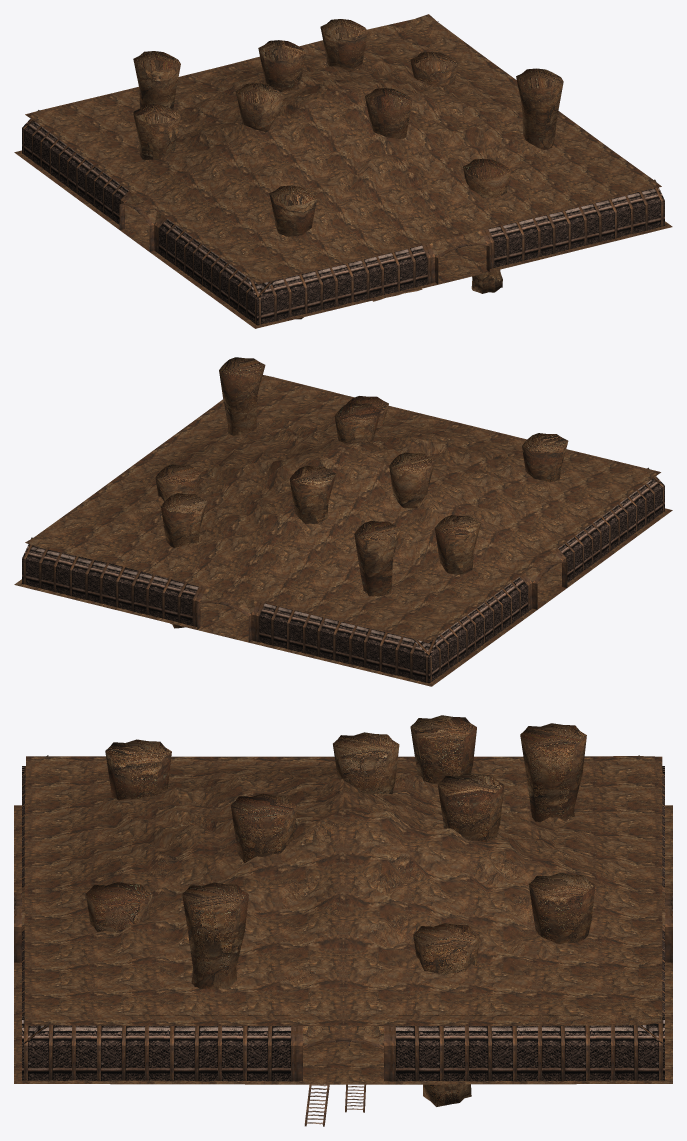
File: lvl1.gltf
3 renders of one model, top to bottom at view 1: azimuth 30°, elevation 25°; view 2: azimuth 150°, elevation 25°; view 3: azimuth 270°, elevation 25°, orthographic. The views are drawn at different scales.
Parts seen in each view (by area): view 1: ceiling-col, pillar-col, walls.002-col, walls-col.002, ground; view 2: ceiling-col, pillar-col, walls-col, walls-col.002, ground; view 3: ceiling-col, pillar-col, walls.001-col, ground, walls.002-col, walls-col.
Boxes of the visible parts, left/top/right/bottom form: ceiling-col: left=25, top=14, right=661, bottom=284; pillar-col: left=133, top=19, right=563, bottom=319; walls.002-col: left=248, top=179, right=664, bottom=325; walls-col.002: left=22, top=110, right=273, bottom=324; ground: left=14, top=150, right=672, bottom=328; ceiling-col: left=25, top=375, right=660, bottom=642; pillar-col: left=155, top=357, right=568, bottom=628; walls-col: left=22, top=537, right=438, bottom=683; walls-col.002: left=413, top=467, right=664, bottom=682; ground: left=14, top=508, right=672, bottom=686; ceiling-col: left=24, top=756, right=662, bottom=1025; pillar-col: left=86, top=715, right=595, bottom=1106; walls.001-col: left=22, top=1015, right=664, bottom=1081; ground: left=14, top=805, right=672, bottom=1084; walls.002-col: left=14, top=755, right=48, bottom=1044; walls-col: left=638, top=755, right=672, bottom=1044.
Size of what is drawn, in the model's own units: 44.09 by 15.29 by 41.
Materials: 4 (4 with a texture image).
